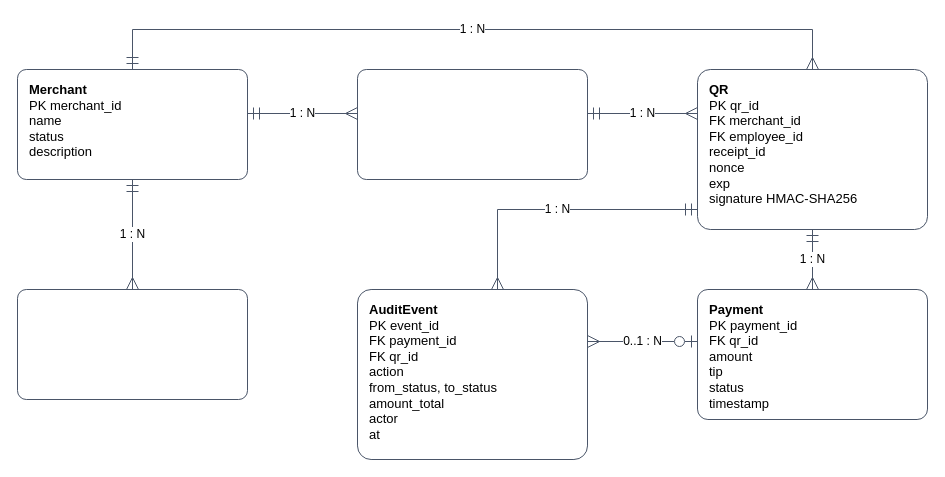
Some shapes in this 945 by 477 pixel diagram are drawn without their labels. Each missing label, with the centre of its shape:
"Employee PK employee_id FK merchant_id name payment_details ****NNNN" goes at point 472,124.
"Report PK report_id FK merchant_id period tips_total" goes at point 132,344.
